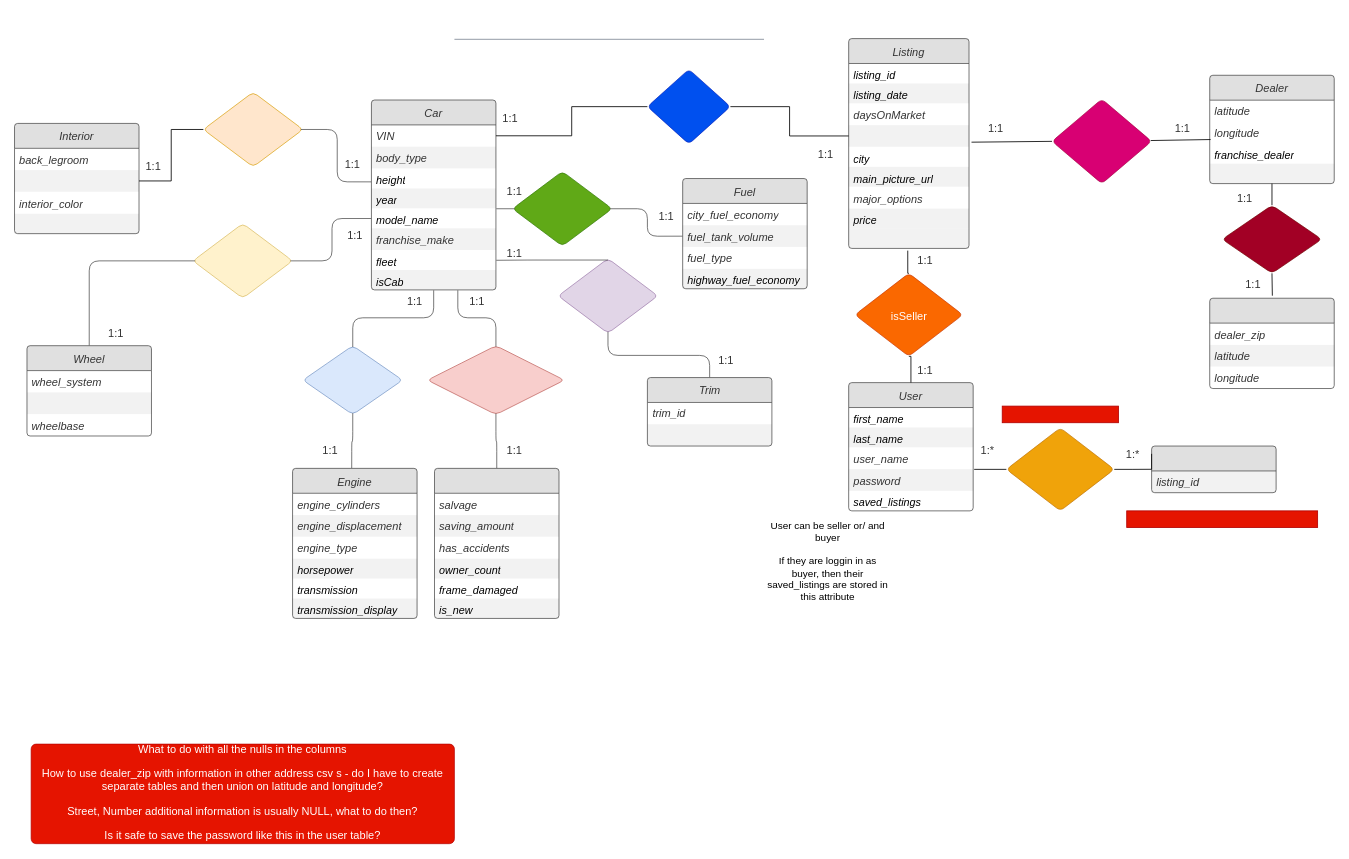
The diagram is 1349 pixels wide and 859 high, and some of its shapes have lost their labels. The box of each missing label's shape, as (x1, y1, x2, y2) in pixels:
confirm cardinality here: (1001, 405, 1118, 423)
createdListing: (1051, 98, 1152, 184)
Dealer_Address: (1209, 297, 1334, 388)
Depreciation_Factors: (434, 468, 559, 618)
description: (848, 125, 969, 146)
front_legroom: (14, 170, 139, 191)
hasDepreciationFactors: (427, 345, 564, 415)
hasEngine: (302, 345, 402, 415)
hasFuelSpecs: (512, 171, 612, 246)
hasInterior: (203, 91, 303, 167)
hasListing: (647, 69, 730, 144)
hasSavedListings: (1006, 427, 1114, 511)
hasTrimSpecs: (557, 258, 658, 333)
hasWheelSystem: (192, 223, 292, 298)
livesIn: (1221, 205, 1322, 273)
maximum_seating: (14, 213, 139, 233)
relationship between saved listings and: (1126, 510, 1318, 527)
SavedListing: (1151, 445, 1276, 493)
seller_rating: (1209, 163, 1334, 183)
seller_user_name: (848, 228, 969, 248)
trim_name: (647, 424, 771, 446)
Used Cars ERD: (341, 14, 874, 41)
wheel_system_display: (27, 392, 151, 414)
